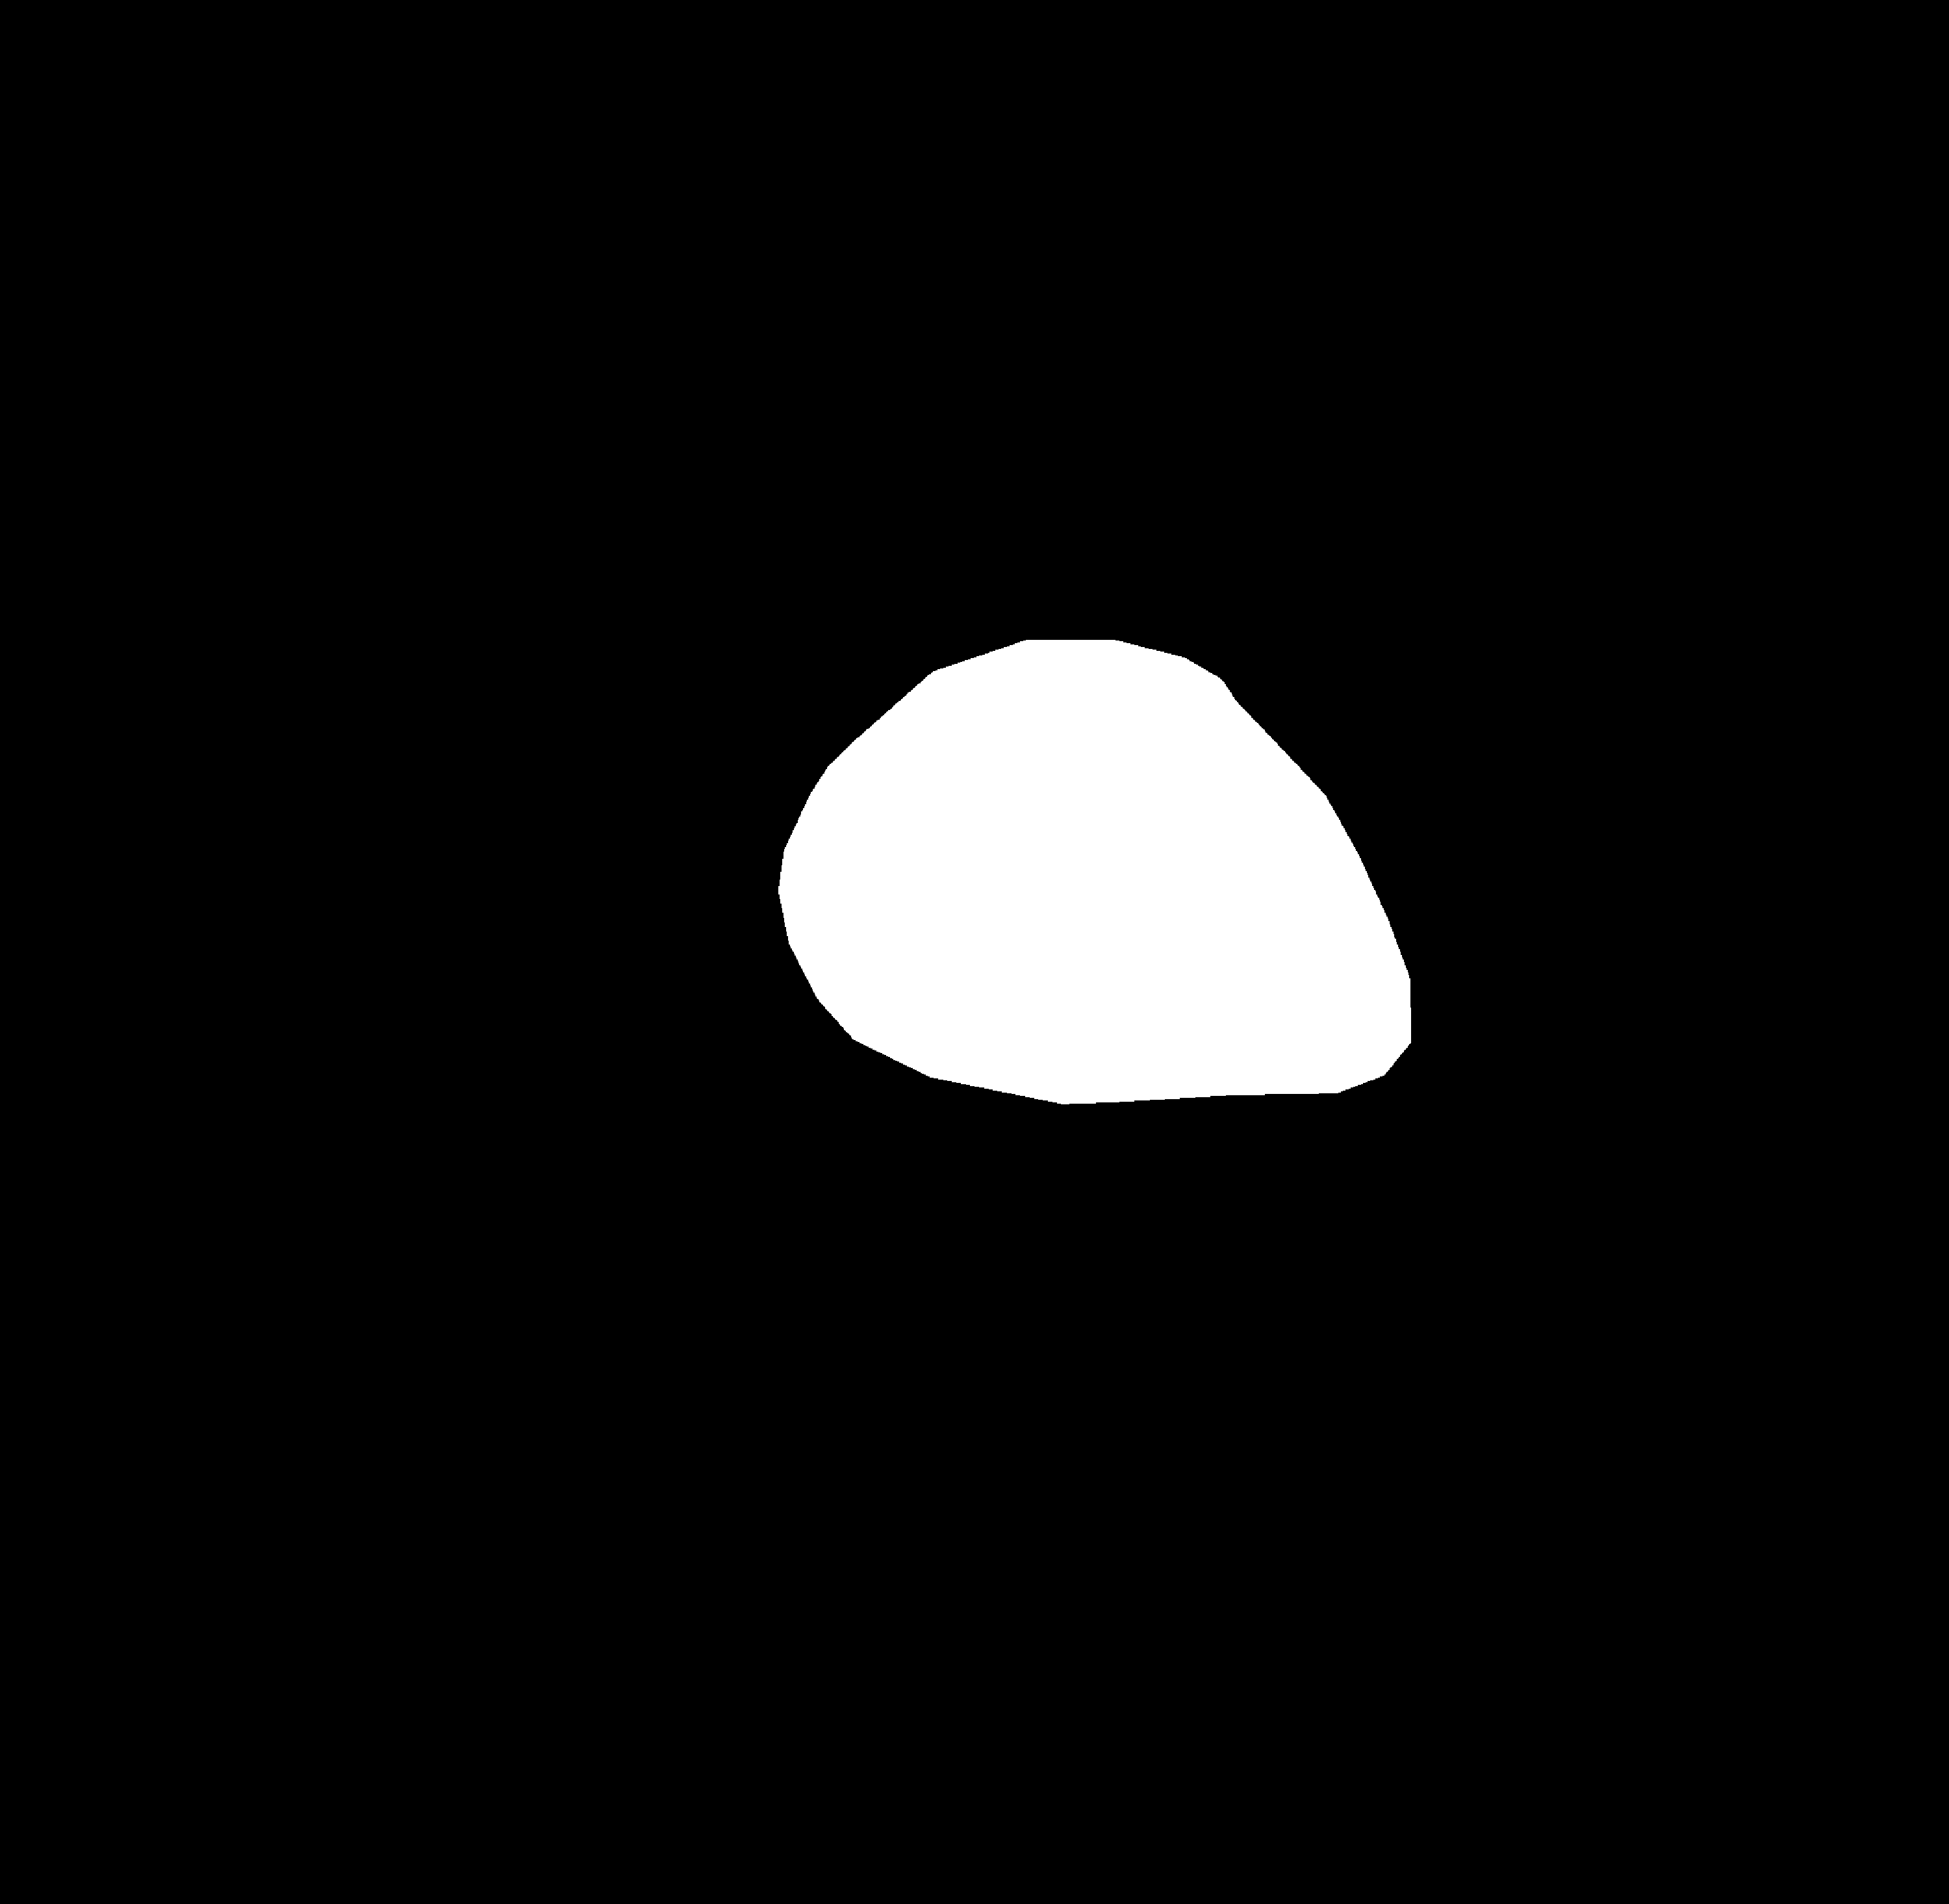heart: (783, 715, 1421, 1144)
left_lung: (321, 166, 920, 1283)
right_lung: (1053, 188, 1609, 1201)
